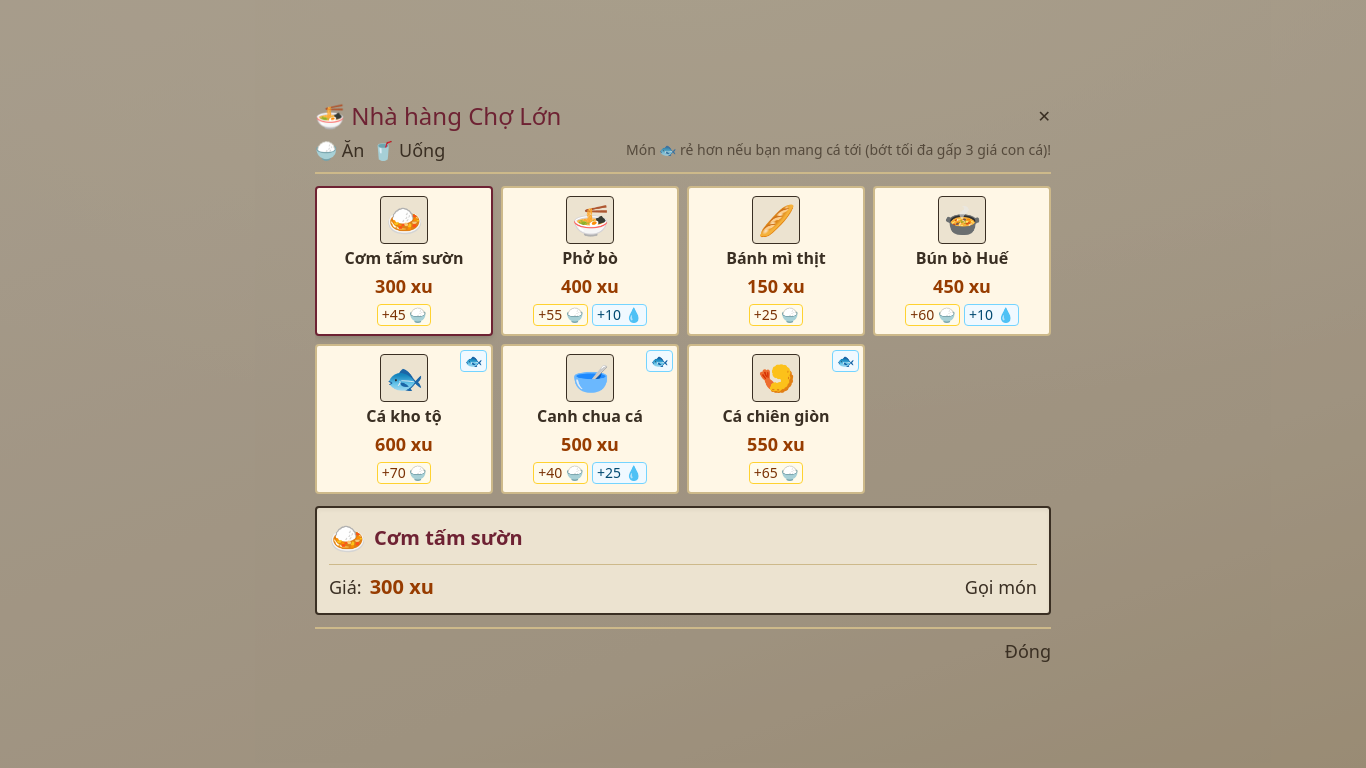
Test: RestaurantModal › lists the foods and drinks by tab with prices
Expected: the button "🍛 Cơm tấm sườn 300 xu +45 🍚" is shown, x1=315 y1=186 x2=493 y2=336
Expected: the button "🥖 Bánh mì thịt 150 xu +25 🍚" is shown, x1=687 y1=186 x2=865 y2=336
Click the button "🥤 Uống": (409, 150) x1=372 y1=136 x2=445 y2=164
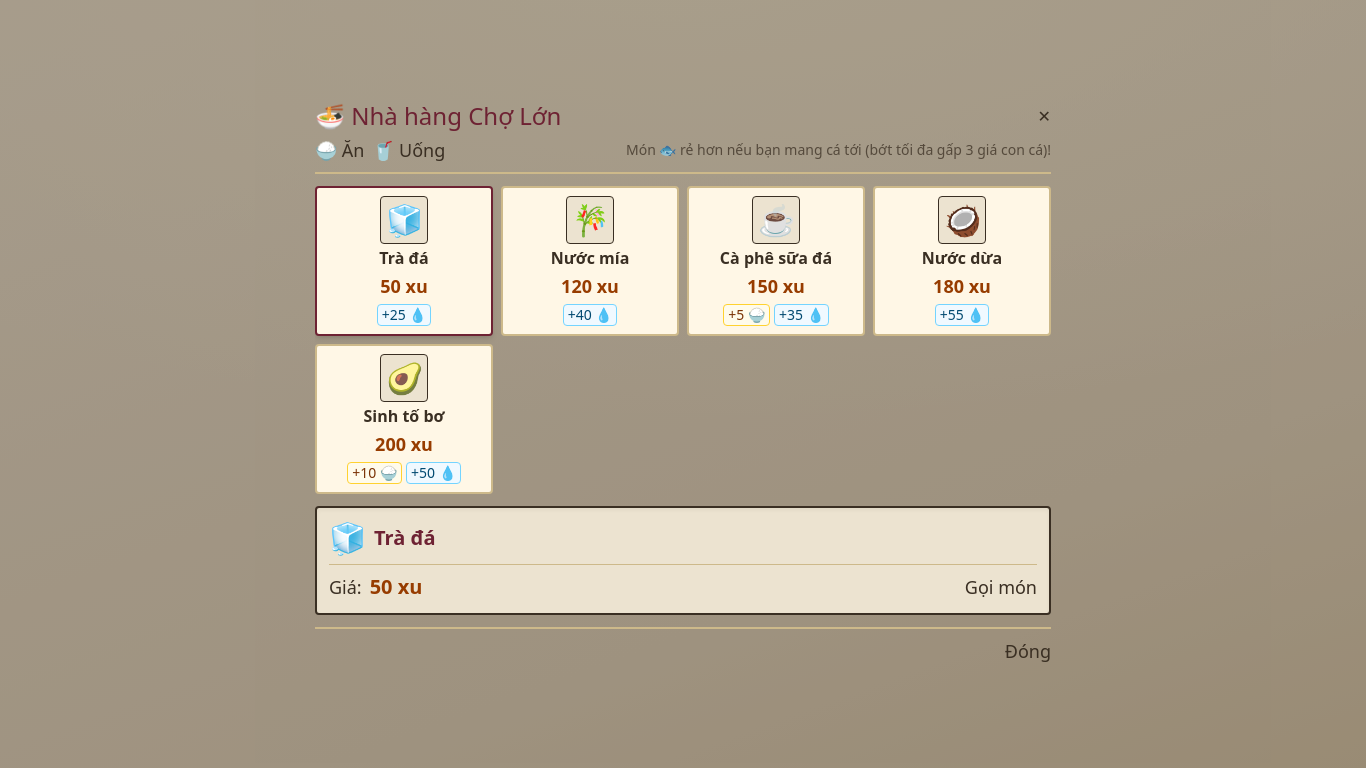
Now the button "🧊 Trà đá 50 xu +25 💧" is shown, box x1=315 y1=186 x2=493 y2=336
Now the button "🎋 Nước mía 120 xu +40 💧" is shown, box x1=501 y1=186 x2=679 y2=336
Now the button "☕ Cà phê sữa đá 150 xu +5 🍚 +35 💧" is shown, box x1=687 y1=186 x2=865 y2=336
